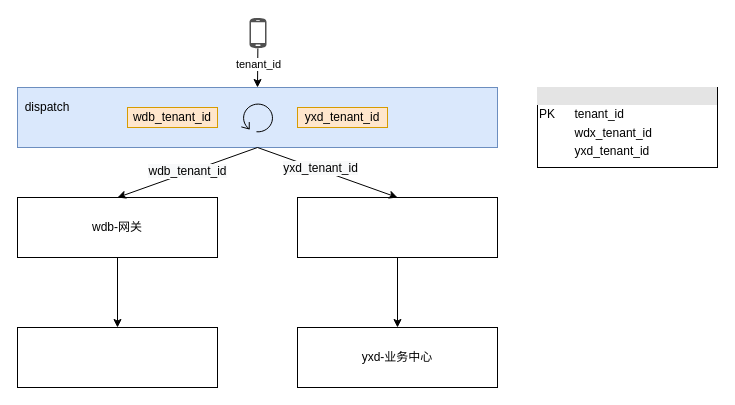
Some shapes in this 735 by 405 pixel diagram are drawn without their labels. The shapes that lost their labels are listed below. From the top down, each one's box as (x1, y1, x2, y2) in pixels, then its label:
(296, 196, 498, 258): yxd-开放接口
(16, 326, 218, 388): wdb-业务中心
